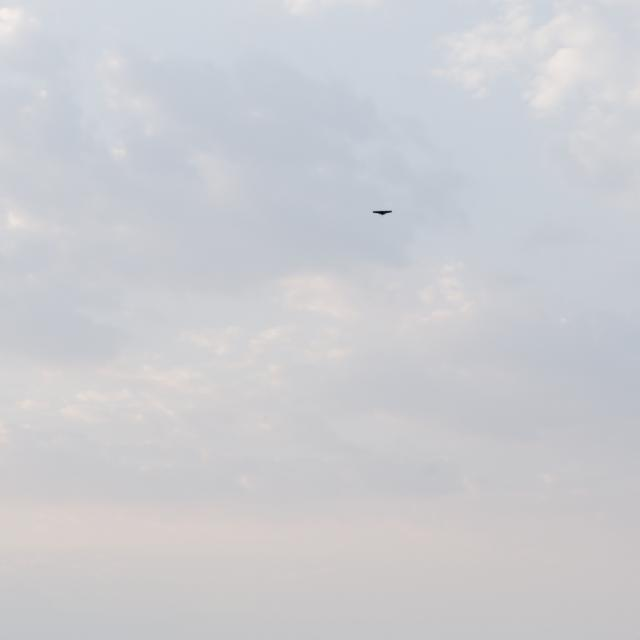Airaplan: (373, 210, 393, 217)
